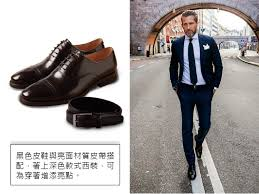F_M_suit jacket: (165, 32, 227, 90)
F_belt: (177, 81, 218, 93)
